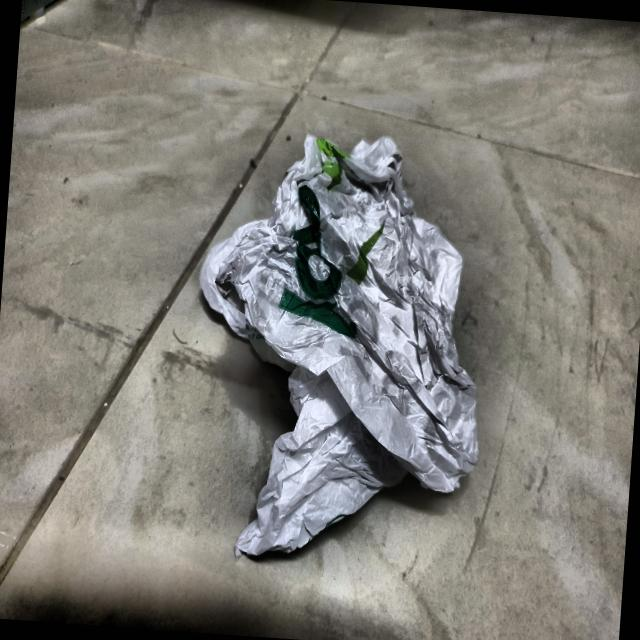plastic bag: (170, 110, 520, 602)
